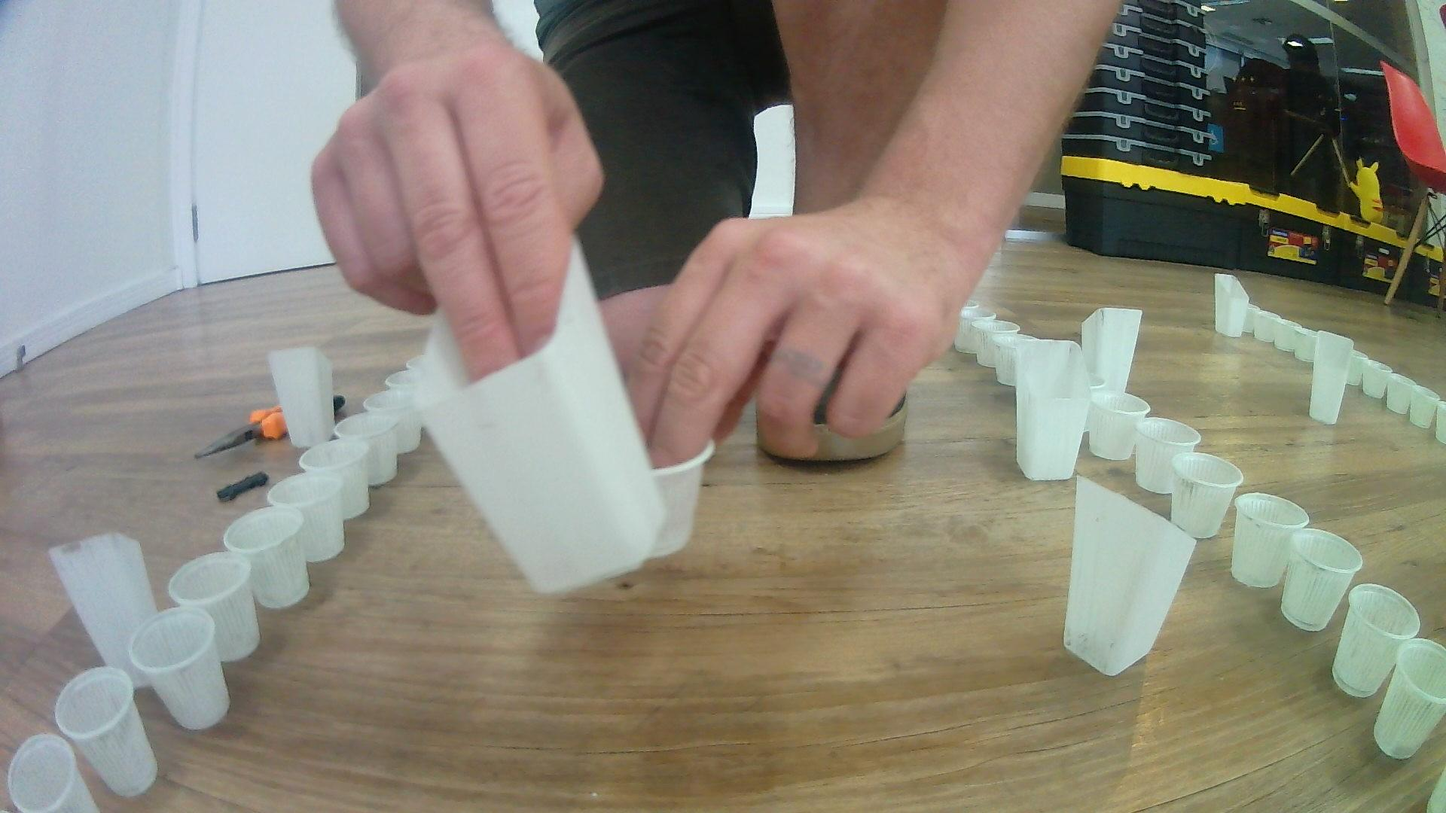erva_daninha: (411, 237, 667, 595), (1060, 473, 1199, 677), (47, 533, 162, 689), (1012, 337, 1091, 482), (265, 346, 335, 449), (1080, 306, 1144, 397), (1307, 329, 1356, 425), (1213, 272, 1250, 338)
planta: (53, 665, 160, 800), (125, 606, 230, 732), (1330, 582, 1421, 699), (167, 550, 261, 663), (221, 506, 311, 610), (1371, 637, 1446, 761), (639, 440, 714, 561), (1279, 527, 1365, 632), (1230, 492, 1313, 589), (5, 732, 101, 813), (265, 471, 348, 564), (1169, 451, 1246, 540), (298, 437, 371, 521), (1133, 416, 1204, 495), (334, 411, 400, 486), (1088, 391, 1152, 462), (362, 388, 421, 455), (971, 320, 1021, 369), (993, 333, 1039, 385), (953, 308, 997, 355), (1408, 385, 1441, 430), (1361, 359, 1395, 400), (384, 370, 428, 401), (1386, 373, 1417, 415), (1274, 318, 1304, 352), (1252, 309, 1279, 344), (1293, 327, 1319, 363), (1345, 350, 1369, 386), (1243, 303, 1266, 339), (406, 354, 433, 376), (1434, 402, 1446, 445), (961, 299, 980, 311)
